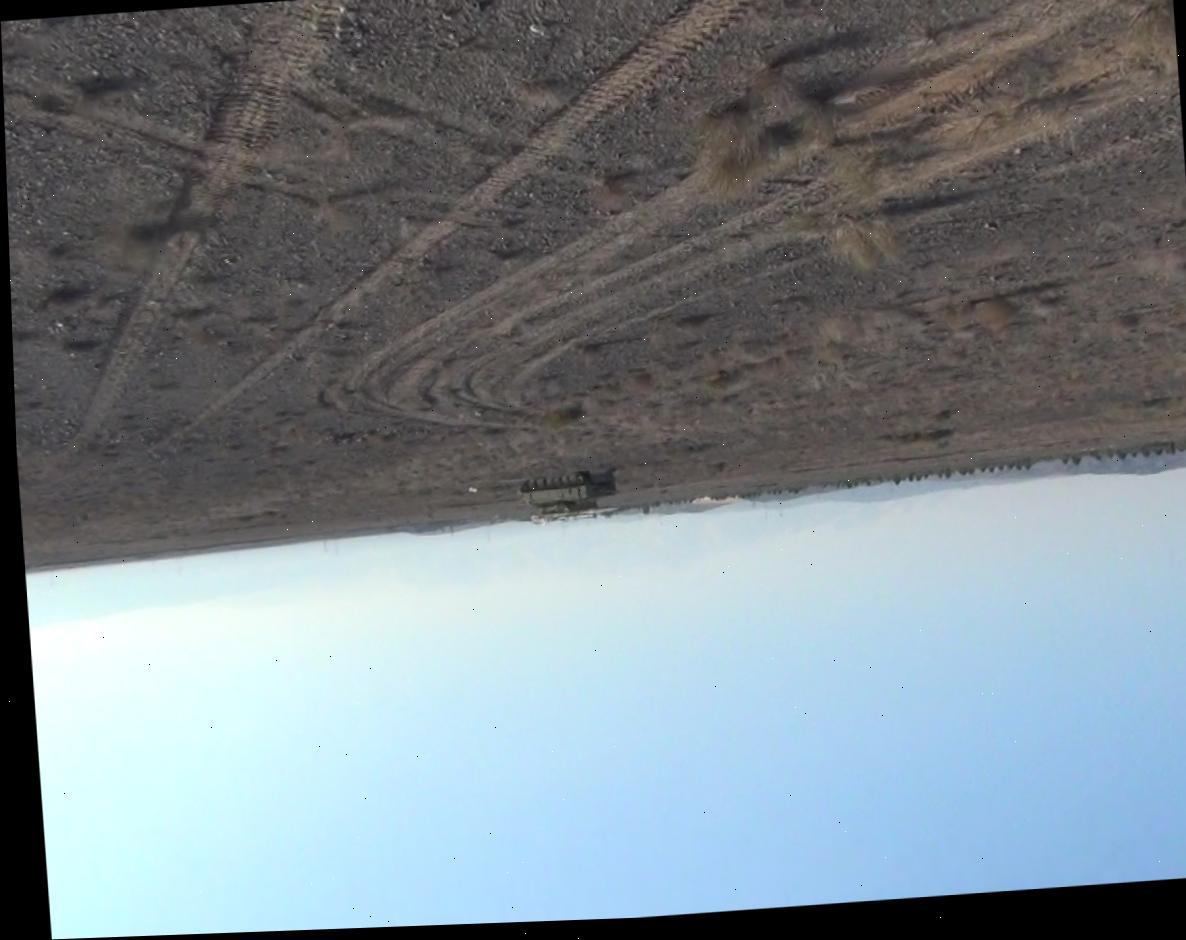armored_car: (513, 466, 623, 528)
